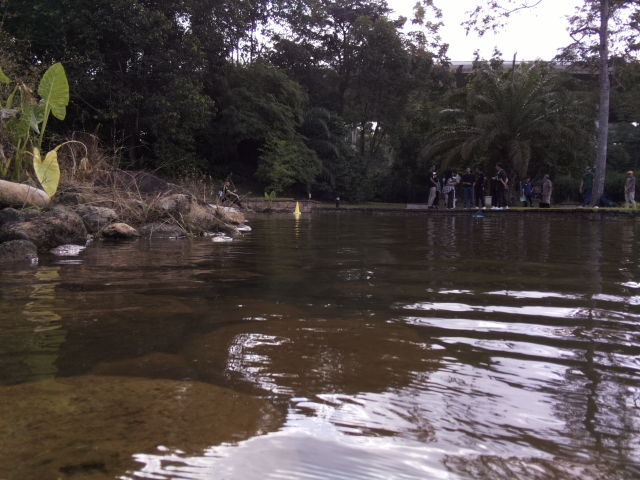checkpoint: (290, 200, 302, 217)
